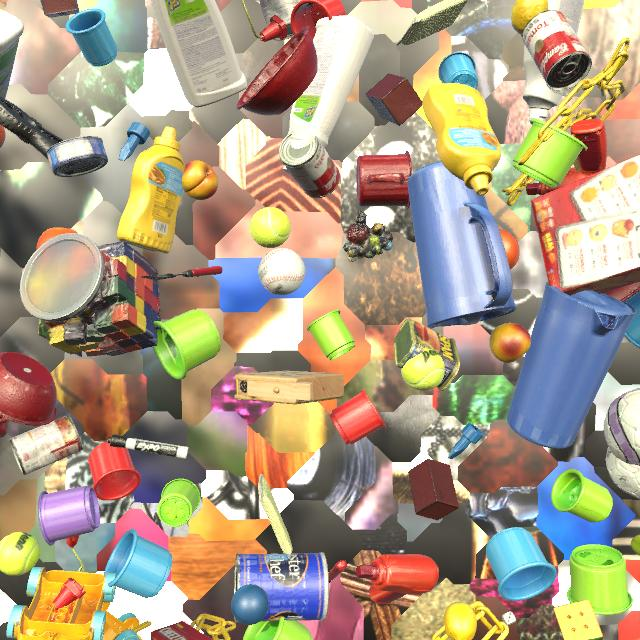ycb_002_master_chef_can: (234, 552, 329, 623)
ycb_003_cracker_box: (531, 155, 640, 296), (151, 621, 212, 640)
ycb_005_tomato_soup_can: (522, 10, 592, 91), (9, 414, 83, 475), (279, 131, 340, 198), (259, 0, 301, 40)
ycb_006_mustard_bottle: (422, 83, 501, 195), (117, 127, 185, 254)
ycb_007_tuna_fish_can: (46, 136, 108, 177)
ycb_010_potted_meat_can: (394, 318, 460, 391)
ycb_014_lemon: (511, 0, 549, 36), (443, 602, 477, 640)
ycb_015_peach: (489, 323, 531, 363), (182, 160, 218, 200)
ycb_016_pear: (631, 535, 640, 556)
ycb_017_orange: (36, 227, 79, 249), (499, 229, 520, 269), (0, 124, 6, 148)
